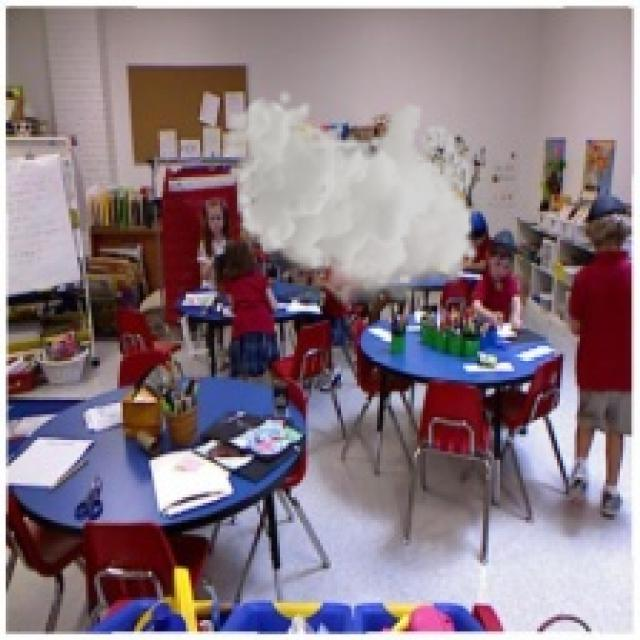smoke: (226, 89, 480, 314)
